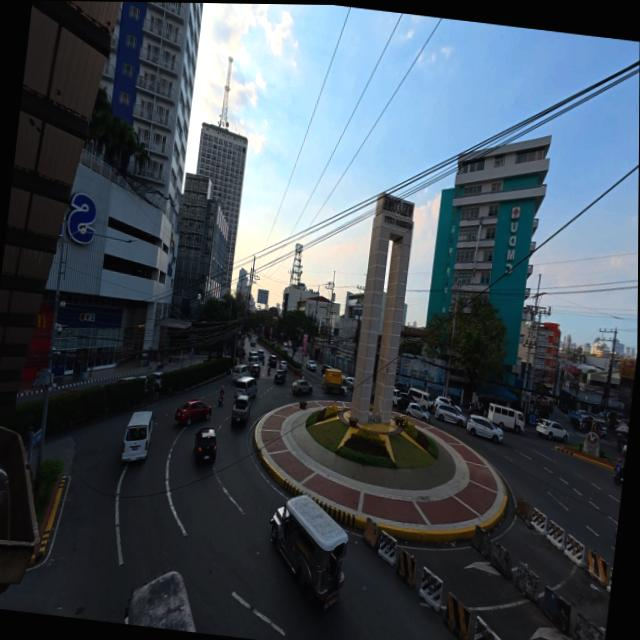Jeepneys: (270, 496, 347, 609), (123, 571, 195, 632)
car: (467, 415, 502, 442), (174, 400, 210, 425), (193, 428, 216, 463), (435, 404, 466, 426), (535, 421, 567, 442), (231, 396, 250, 425), (433, 397, 461, 414), (405, 403, 430, 422), (291, 379, 311, 395), (147, 371, 161, 392), (396, 393, 410, 412), (592, 418, 606, 436), (114, 376, 143, 384), (433, 397, 452, 409), (272, 370, 285, 384), (535, 418, 550, 429), (249, 363, 260, 377), (246, 353, 257, 366), (392, 388, 399, 407), (394, 382, 407, 392), (267, 355, 276, 368), (256, 348, 264, 362), (305, 360, 315, 371), (321, 365, 331, 375), (345, 376, 353, 388), (576, 410, 587, 418), (281, 341, 289, 351), (278, 360, 286, 370), (621, 444, 626, 456), (614, 522, 617, 539)
motorcycle: (613, 465, 625, 485), (616, 437, 627, 450), (217, 390, 224, 405), (156, 360, 163, 368), (266, 365, 269, 375)
trucks: (321, 369, 343, 394), (249, 336, 257, 347)
vans: (121, 411, 152, 461), (487, 403, 524, 432), (407, 388, 433, 411), (233, 377, 256, 398), (231, 365, 247, 382), (246, 352, 257, 366)
